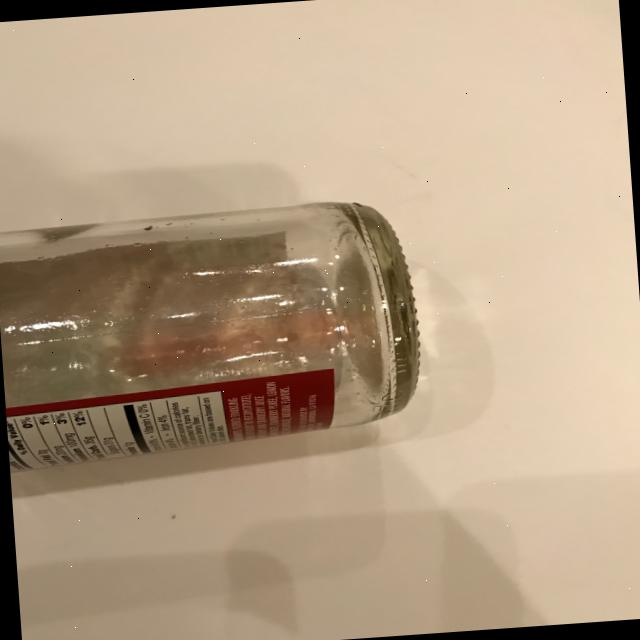glass: (0, 194, 427, 473)
